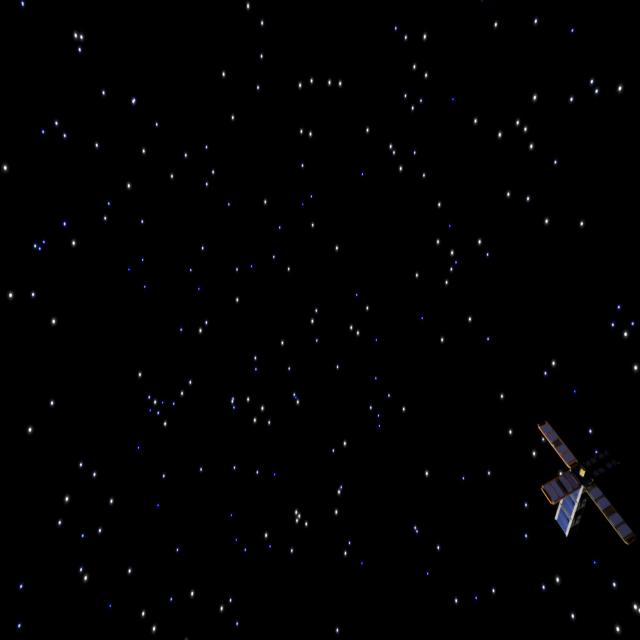medium_debris: (522, 419, 636, 553)
